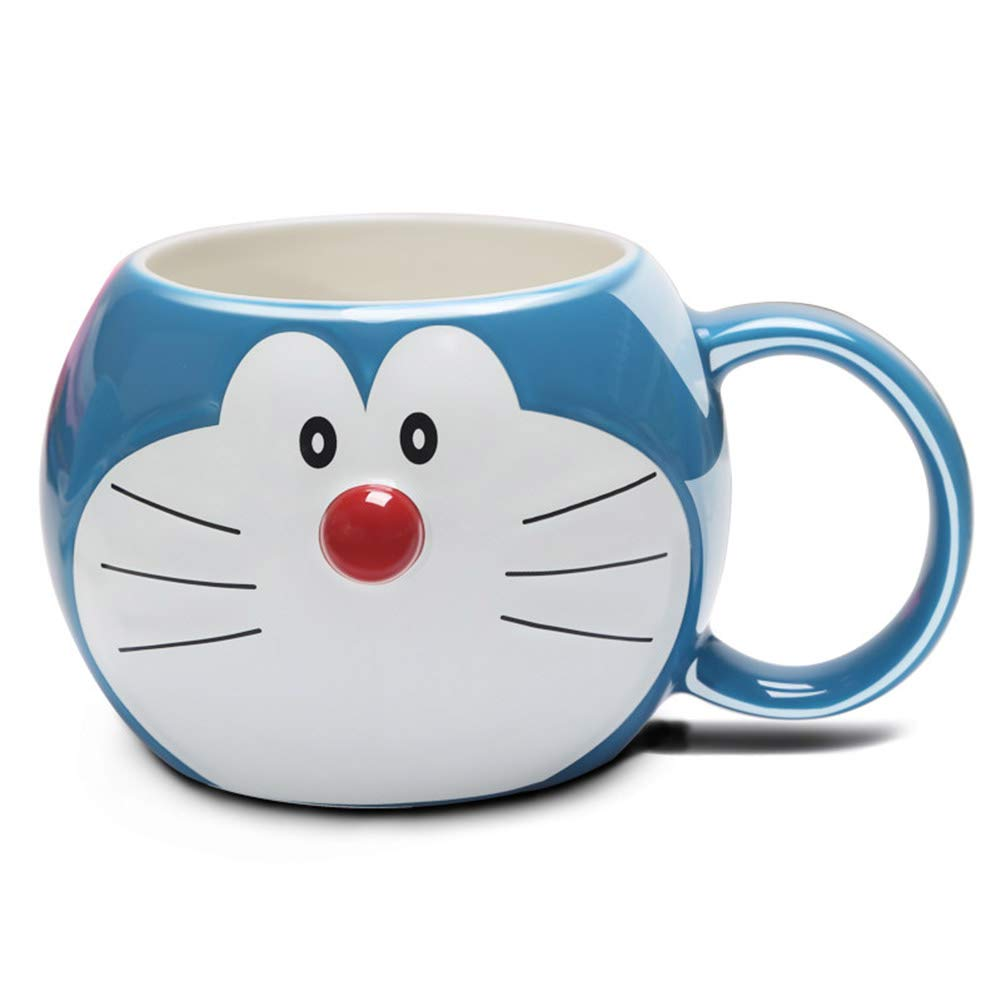cup: (30, 210, 983, 818)
